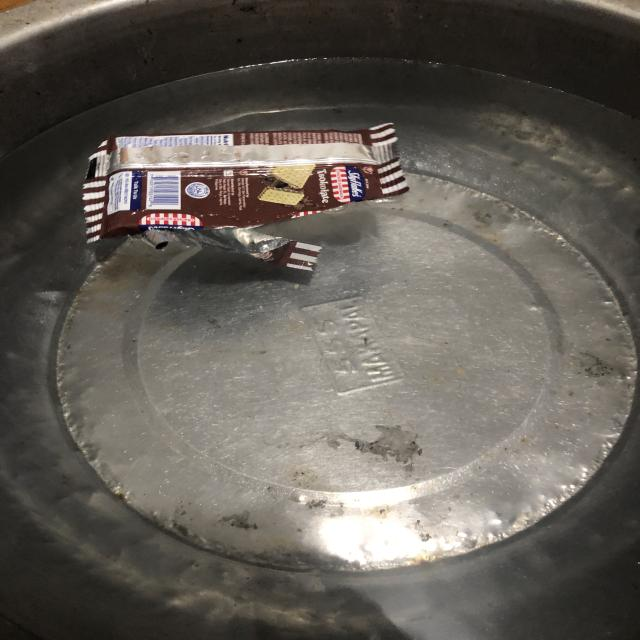Plastic Wrapper: (64, 115, 426, 278)
